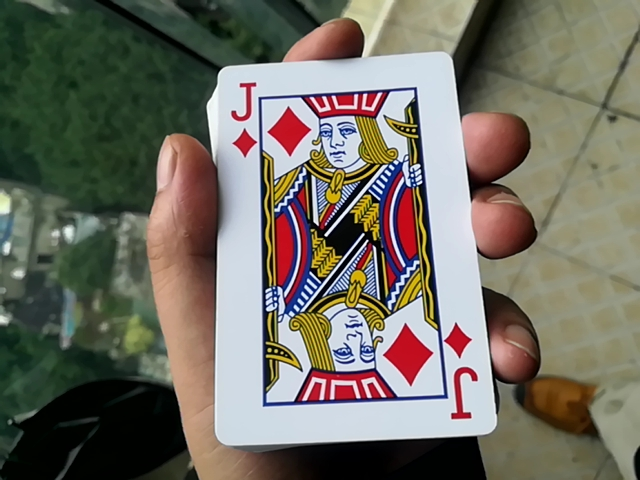fk j: (185, 58, 503, 440)
